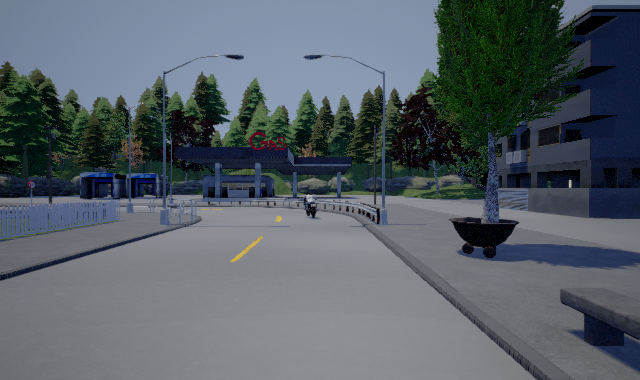bike: (301, 191, 320, 219)
traffic_sign: (28, 181, 35, 189)
